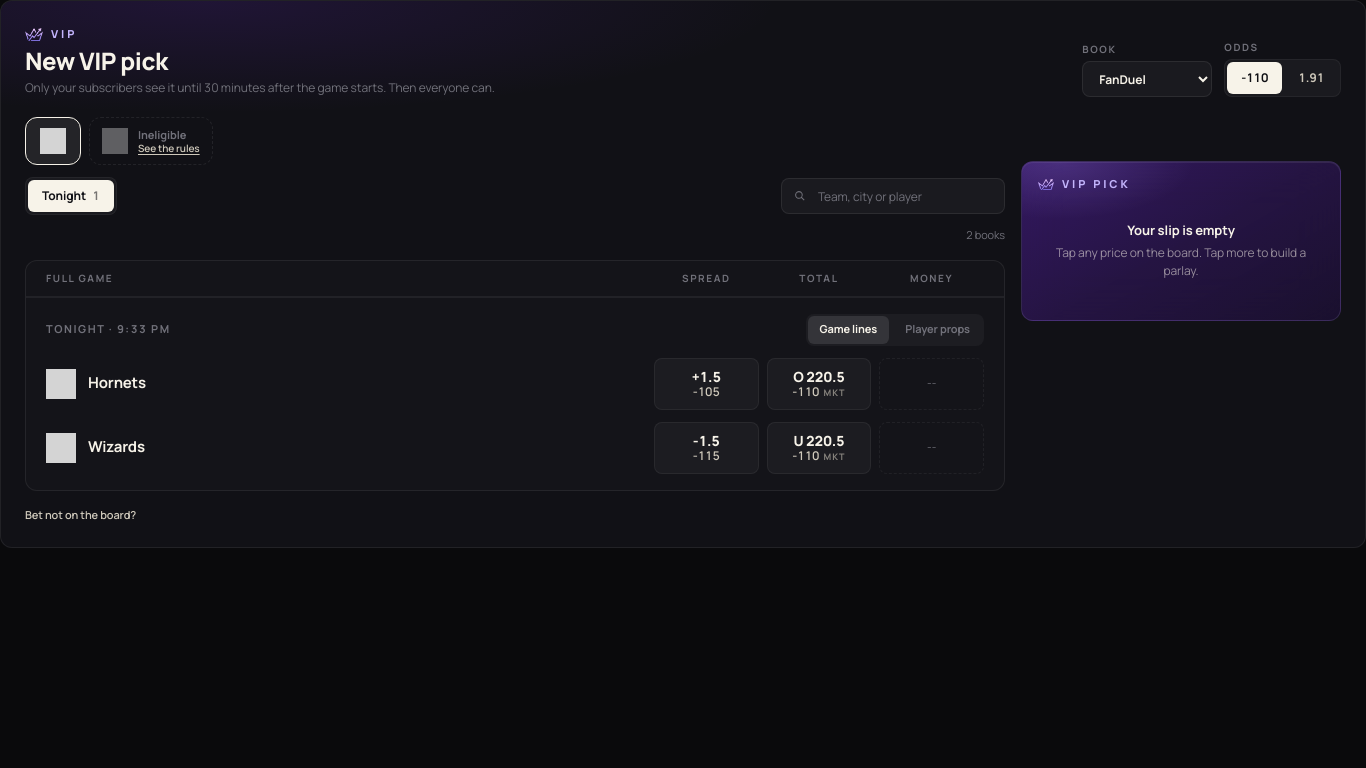
Test case: PickBuilder › shows the best-book note on a clamped leg
The width and height of the screenshot is (1366, 768).
What coordinates should you click on to do the following:
click the button "+1.5 -105"
I would click on:
 (706, 384)
Its box is [654,358,759,410].
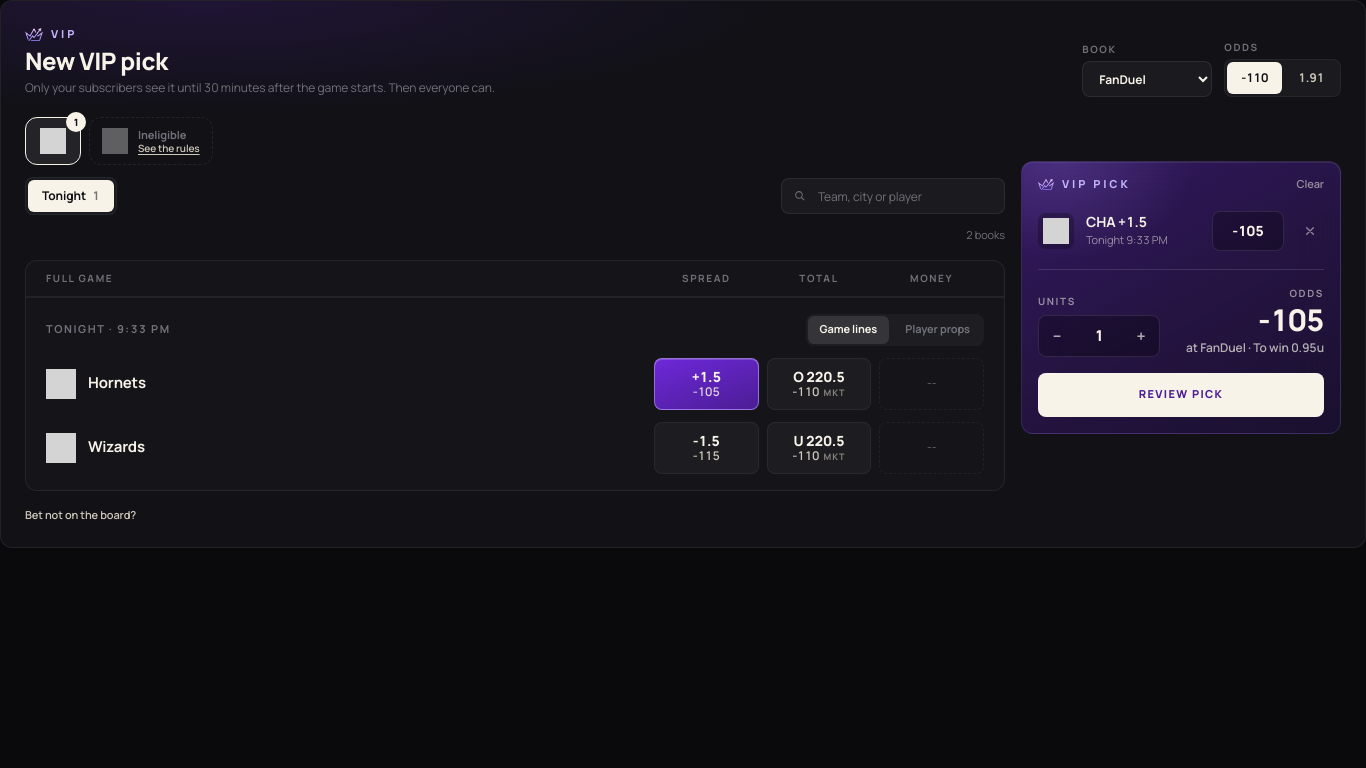
What coordinates should you click on to do the following:
click the button "Review pick"
I would click on:
 (1181, 394)
Its box is [1038,372,1324,416].
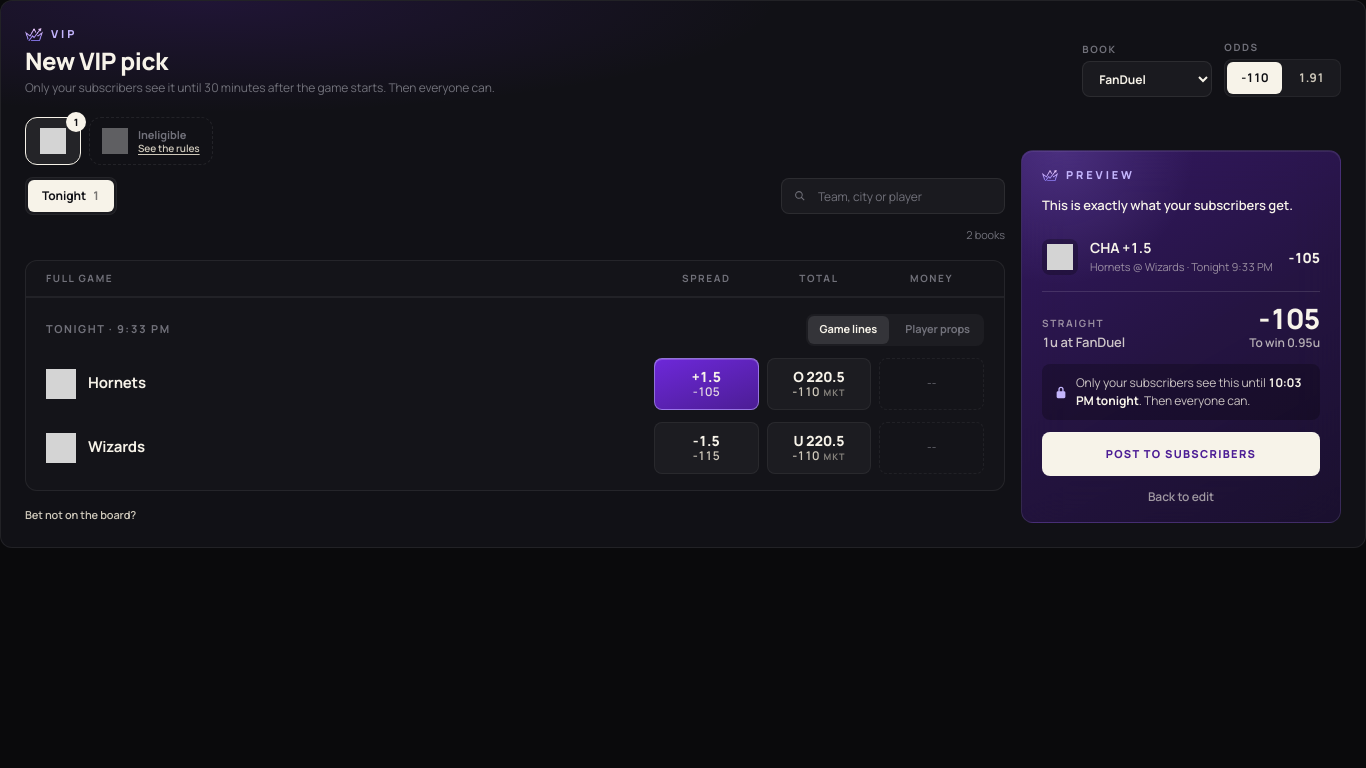
What coordinates should you click on to do the following:
click the button "Post to subscribers"
I would click on:
 (1181, 454)
Its box is [1042,432,1320,476].
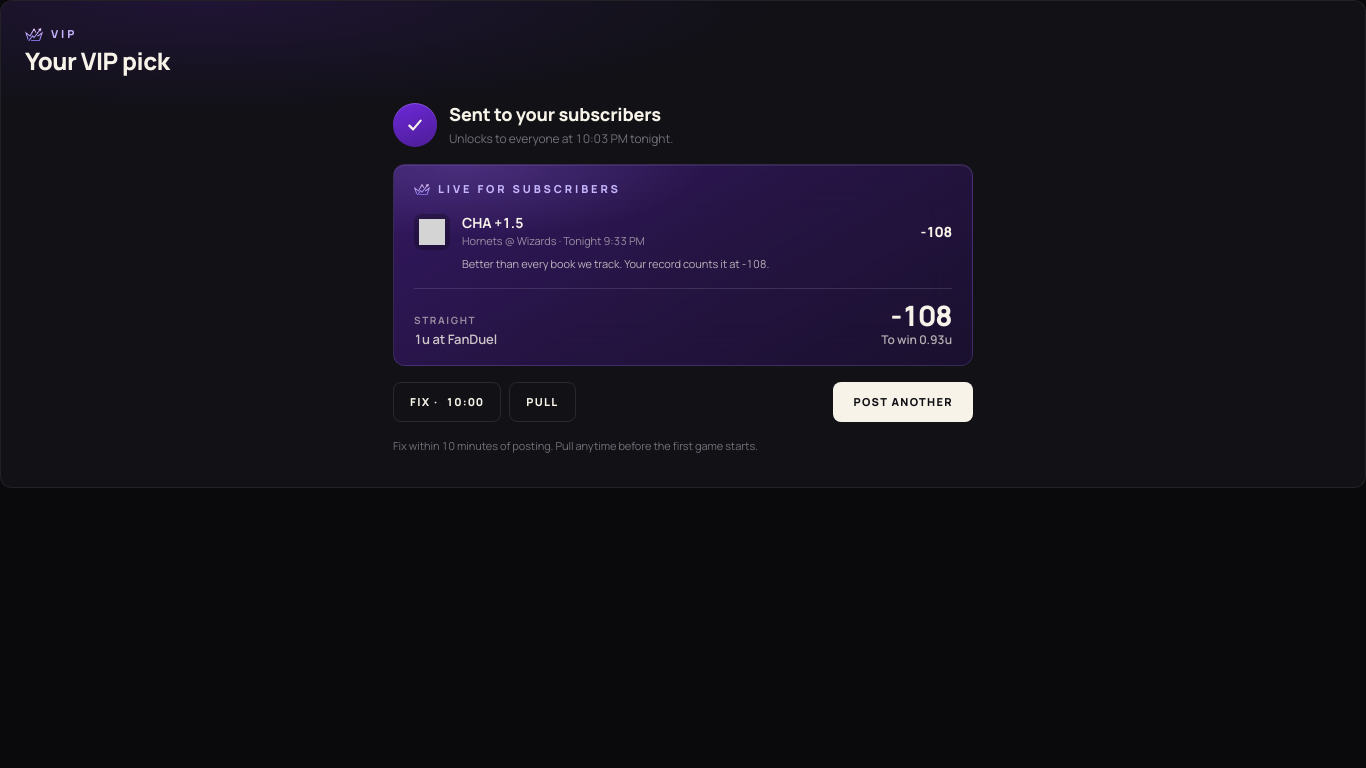
Check: the text "Sent to your subscribers" is shown, box [449,101,673,128]
Check: the text "Your record counts it at -108" is shown, box [462,256,769,270]
